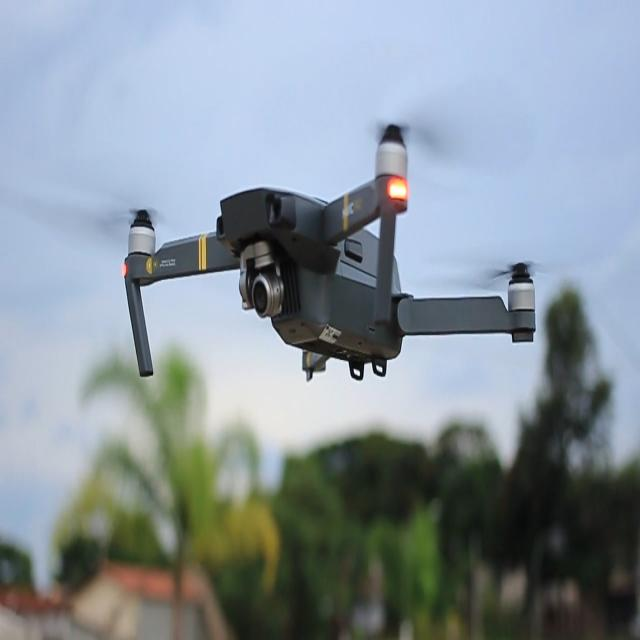Drone: (121, 127, 532, 383)
